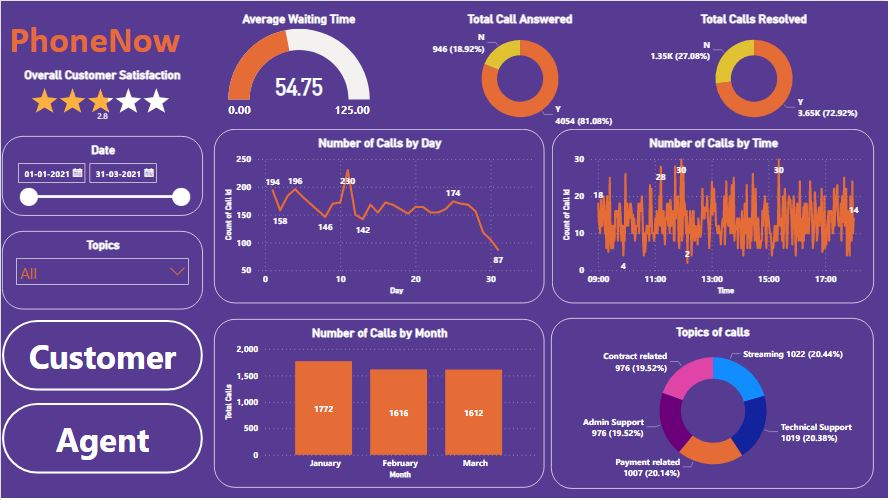

The dashboard page shown, as its layout file describes it:
{"tool":"powerbi","page":{"name":"Customer","canvas":[1280,720],"ordinal":0},"visuals":[{"type":"donutChart","title":"Topics of calls","fields":{"Category":["Sheet1.Topic"],"Y":["CountNonNull(Sheet1.Topic)"]},"box":[797.7,452.3,460.6,244.2],"z":0},{"type":"textbox","box":[12.5,16.6,265,79.1],"z":1000},{"type":"gauge","title":"Average  Waiting Time ","fields":{"Y":["Avg(Sheet1.Speed of answer in seconds)"]},"box":[316.3,15.3,242.8,160.9],"z":2000},{"type":"slicer","title":"Date","fields":{"Values":["Sheet1.Date"]},"box":[12.5,192.8,287.2,113.8],"z":3000},{"type":"columnChart","title":"Number of Calls by Month","fields":{"Category":["Sheet1.Date.Variation.Date Hierarchy.Month"],"Y":["CountNonNull(Sheet1.Call Id)"]},"box":[316.3,453.6,471.7,241.4],"z":4000},{"type":"slicer","title":"Topics","fields":{"Values":["Sheet1.Topic"]},"box":[12.5,328.8,287.2,112.4],"z":5000},{"type":"lineChart","title":"Number of Calls by Day","fields":{"Y":["CountNonNull(Sheet1.Call Id)"],"Category":["Sheet1.Date.Variation.Date Hierarchy.Day"]},"box":[315.8,183.1,472,248.6],"z":6000},{"type":"donutChart","title":"Total Call Answered","fields":{"Y":["CountNonNull(Sheet1.Answered (Y/N))"],"Category":["Sheet1.Answered (Y/N)"]},"box":[589.6,15.3,326,170.6],"z":7000},{"type":"donutChart","title":"Total Calls Resolved","fields":{"Y":["CountNonNull(Sheet1.Resolved)"],"Category":["Sheet1.Resolved"]},"box":[915.6,15.3,342.7,170.6],"z":8000},{"type":"lineChart","title":"Number of Calls by Time","fields":{"Y":["CountNonNull(Sheet1.Call Id)"],"Category":["Sheet1.Time"]},"box":[797.9,183.1,460.3,248.6],"z":9000},{"type":"actionButton","box":[12.9,455.7,287.1,101.4],"z":11000},{"type":"actionButton","box":[12.9,574.3,287.1,101.4],"z":12000},{"type":"PBI_CV_9053509D_D461_463A_B485_CE9F6AB0F13D","title":"Overall Customer Satisfaction","fields":{"value":["Avg(Sheet1.Satisfaction rating)"]},"box":[12.9,95.7,287.1,90],"z":12001}]}

Visuals, with their boxes in screenshot pixels (x1, y1, x2, y2), scaled from the page's 1280x720 canvas onto the 888x500 screenshot:
"Topics of calls" donutChart: x1=553, y1=314, x2=873, y2=484
textbox: x1=9, y1=12, x2=193, y2=66
"Average  Waiting Time " gauge: x1=219, y1=11, x2=388, y2=122
"Date" slicer: x1=9, y1=134, x2=208, y2=213
"Number of Calls by Month" columnChart: x1=219, y1=315, x2=547, y2=483
"Topics" slicer: x1=9, y1=228, x2=208, y2=306
"Number of Calls by Day" lineChart: x1=219, y1=127, x2=547, y2=300
"Total Call Answered" donutChart: x1=409, y1=11, x2=635, y2=129
"Total Calls Resolved" donutChart: x1=635, y1=11, x2=873, y2=129
"Number of Calls by Time" lineChart: x1=554, y1=127, x2=873, y2=300
actionButton: x1=9, y1=316, x2=208, y2=387
actionButton: x1=9, y1=399, x2=208, y2=469
"Overall Customer Satisfaction" PBI_CV_9053509D_D461_463A_B485_CE9F6AB0F13D: x1=9, y1=66, x2=208, y2=129
